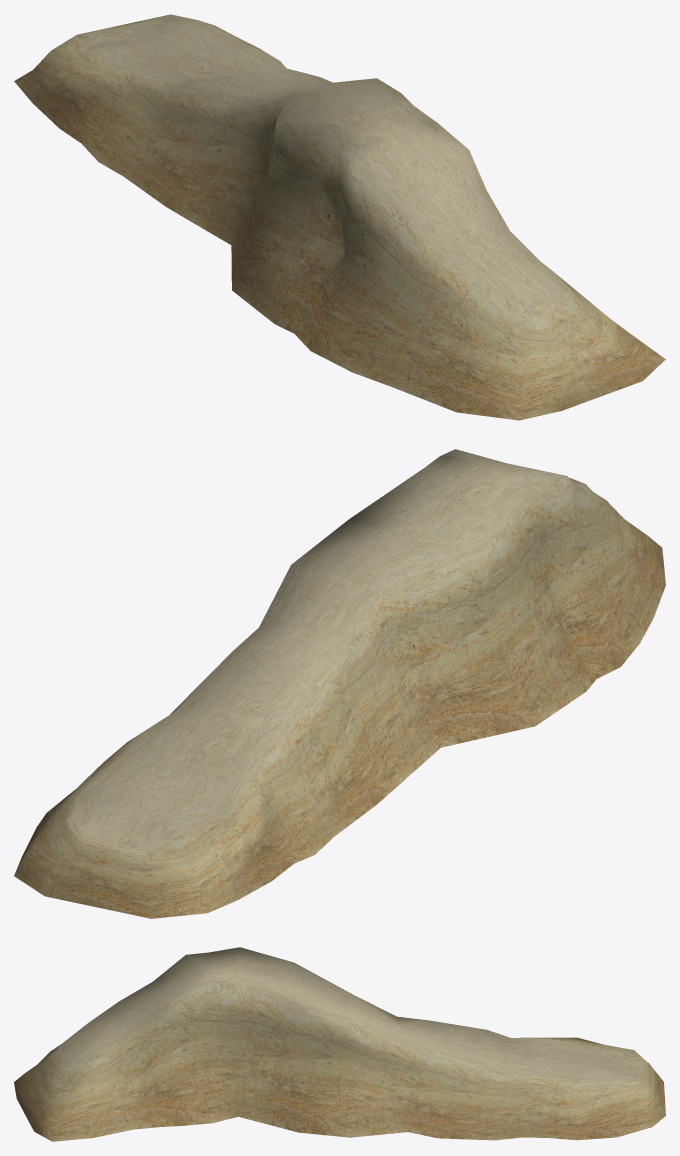
Rendered from rock_beach_spine_a4_l1.fbx.
3 views of the same model, one above another, from view 1: azimuth 30°, elevation 25°; view 2: azimuth 150°, elevation 25°; view 3: azimuth 270°, elevation 25° (orthographic). The views are drawn at different scales.
Visible parts, largest first — view 1: mesh_node; view 2: mesh_node; view 3: mesh_node.
Part boxes in pixels (<box>): mesh_node: <box>14,14,665,420</box>; mesh_node: <box>14,449,665,918</box>; mesh_node: <box>14,947,665,1141</box>.
Size of the model in its own units: 5.29 by 3.6 by 16.75.
